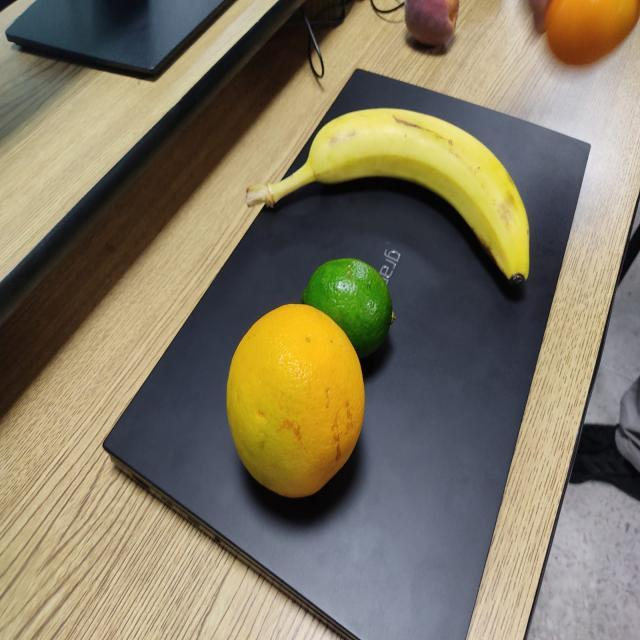Jeruk: (222, 297, 370, 507)
Lemon: (296, 252, 400, 369)
Pisang: (239, 99, 539, 297)
